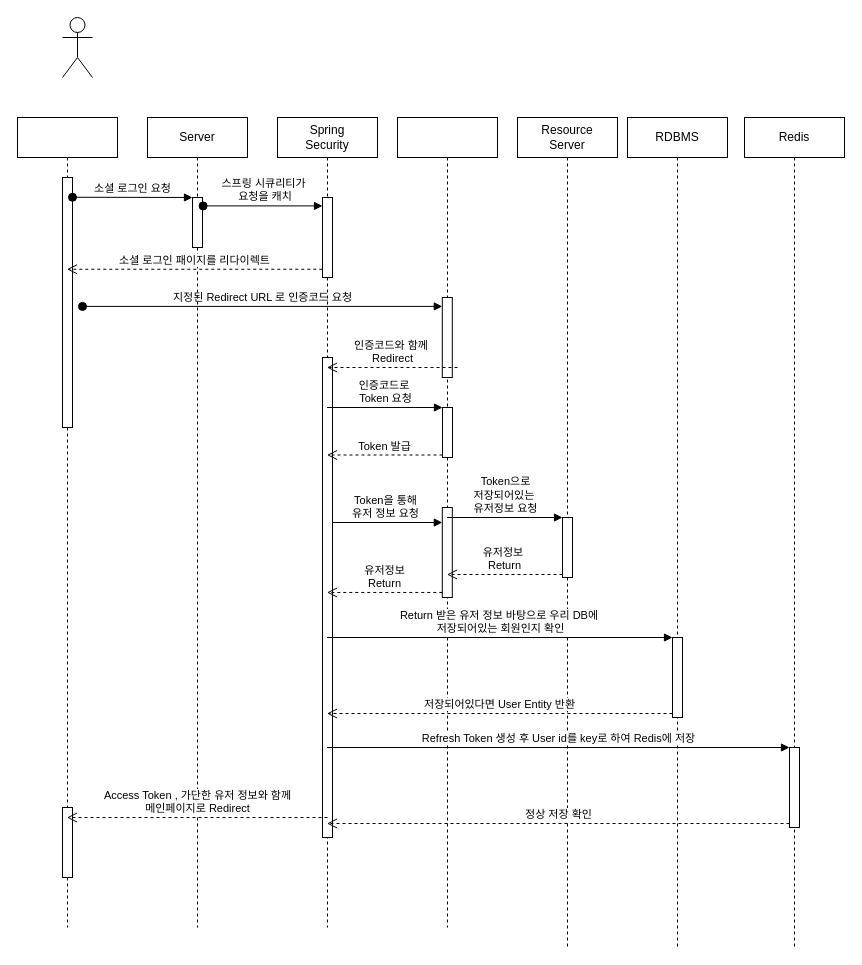
This 862x965 diagram has some shape labels left out. The box of each missing label's shape, as (x1, y1, x2, y2) in pixels:
Client: (16, 116, 118, 928)
Oauth2 Server: (396, 116, 498, 928)
User: (62, 16, 92, 78)
